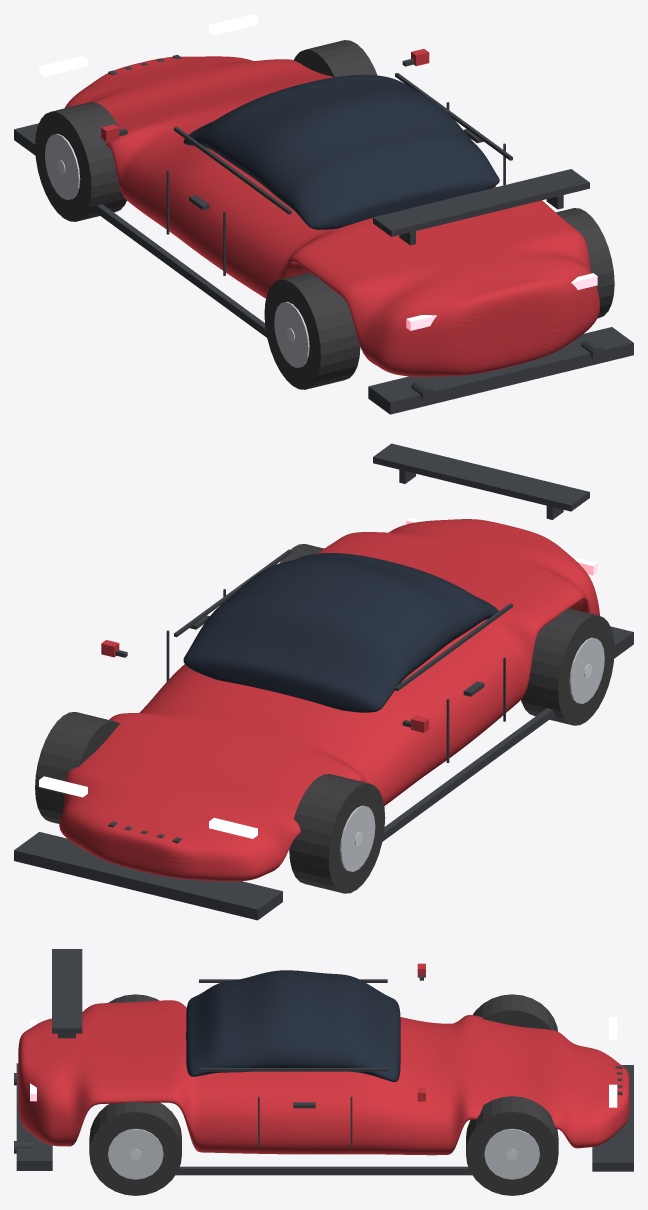
Rendered from velara-gt.glb.
The picture shows the model from 3 angles, top to bottom: view 1: azimuth 30°, elevation 25°; view 2: azimuth 150°, elevation 25°; view 3: azimuth 270°, elevation 25°; orthographic projection. The views are drawn at different scales.
Visible parts, largest first — view 1: Body, Glass, Trim, WheelRL, WheelFL, WheelRR, WheelFR, LightFront, LightRear; view 2: Body, Glass, Trim, WheelFL, WheelRL, WheelFR, LightFront; view 3: Body, Glass, Trim, WheelFR, WheelRR, WheelFL, LightFront.
Part boxes in pixels (x1,y1,x2,y2): Body: (65, 56, 599, 376); Glass: (183, 74, 499, 229); Trim: (14, 49, 633, 414); WheelRL: (264, 272, 360, 389); WheelFL: (35, 102, 126, 221); WheelRR: (556, 208, 614, 318); WheelFR: (294, 40, 377, 77); LightFront: (39, 14, 257, 76); LightRear: (406, 273, 597, 330); Body: (59, 519, 599, 881); Glass: (183, 553, 498, 712); Trim: (14, 443, 633, 920); WheelFL: (289, 774, 385, 893); WheelRL: (521, 608, 614, 725); WheelFR: (35, 712, 119, 823); LightFront: (39, 776, 257, 838); Body: (18, 1000, 629, 1155); Glass: (186, 970, 400, 1081); Trim: (14, 949, 633, 1175); WheelFR: (466, 1096, 558, 1195); WheelRR: (89, 1101, 181, 1195); WheelFL: (473, 994, 557, 1031); LightFront: (609, 1016, 617, 1107).
Size of the model in its own units: 2.21 by 1.18 by 4.48.
